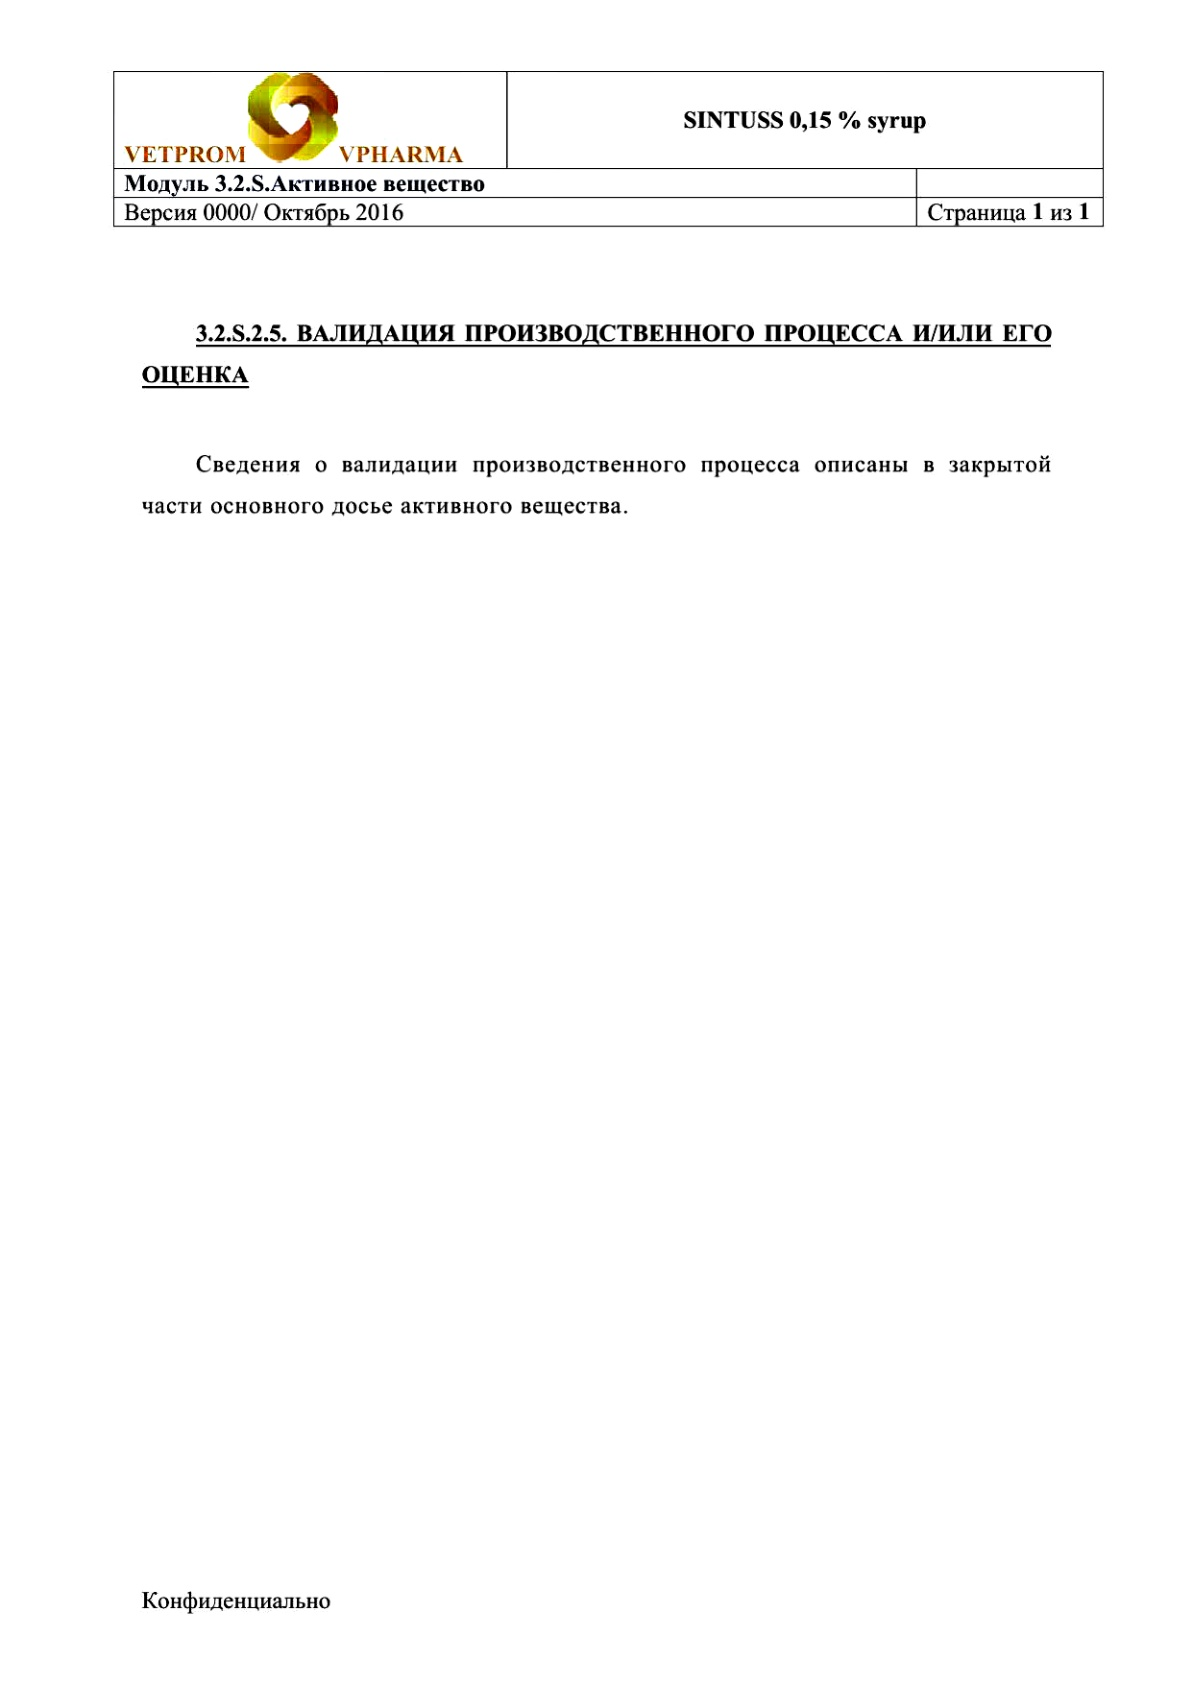merged_cells: (112, 68, 1105, 227)
